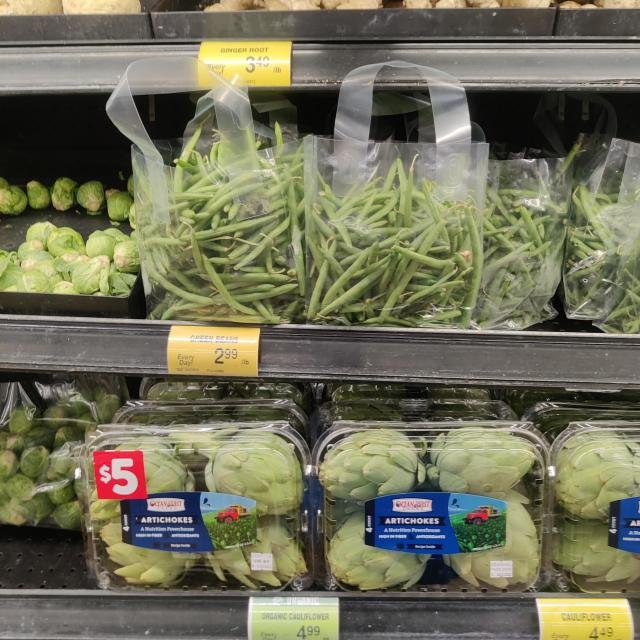Artichoke: (310, 422, 550, 604), (74, 433, 314, 612), (549, 426, 640, 590)
